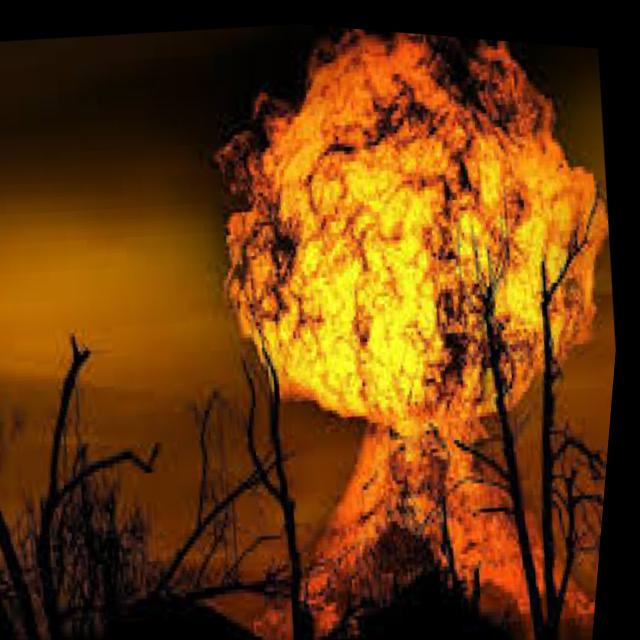Fire: (171, 31, 639, 619)
